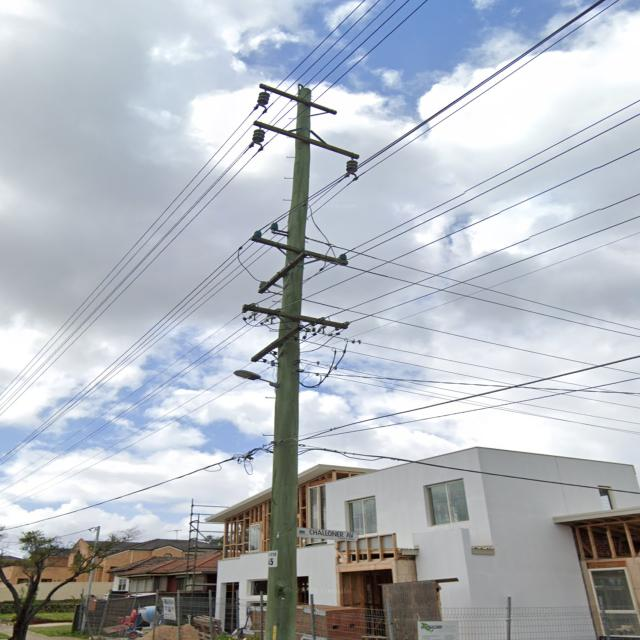HV-transmission: (243, 83, 359, 180), (252, 222, 347, 289)
crossarm: (252, 120, 359, 160), (250, 236, 349, 266), (243, 304, 348, 330), (259, 84, 337, 115), (250, 324, 305, 363), (259, 251, 308, 293)
streetlight: (233, 368, 274, 386)
timber-pole: (264, 88, 314, 631)
